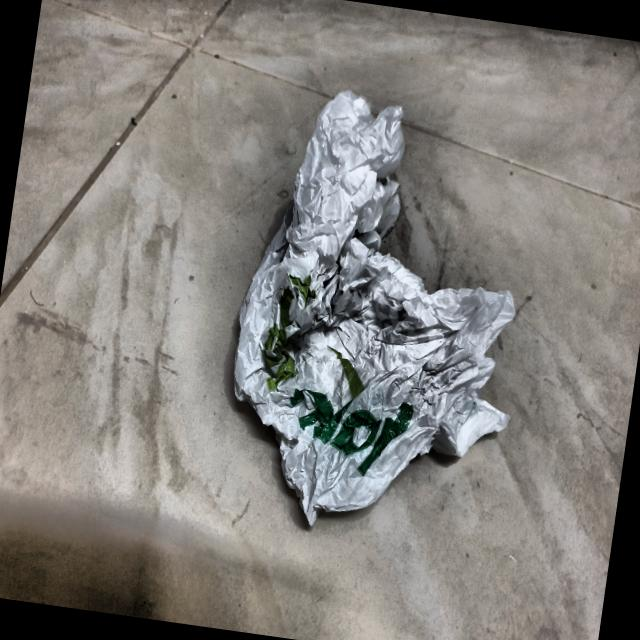plastic bag: (203, 72, 561, 565)
